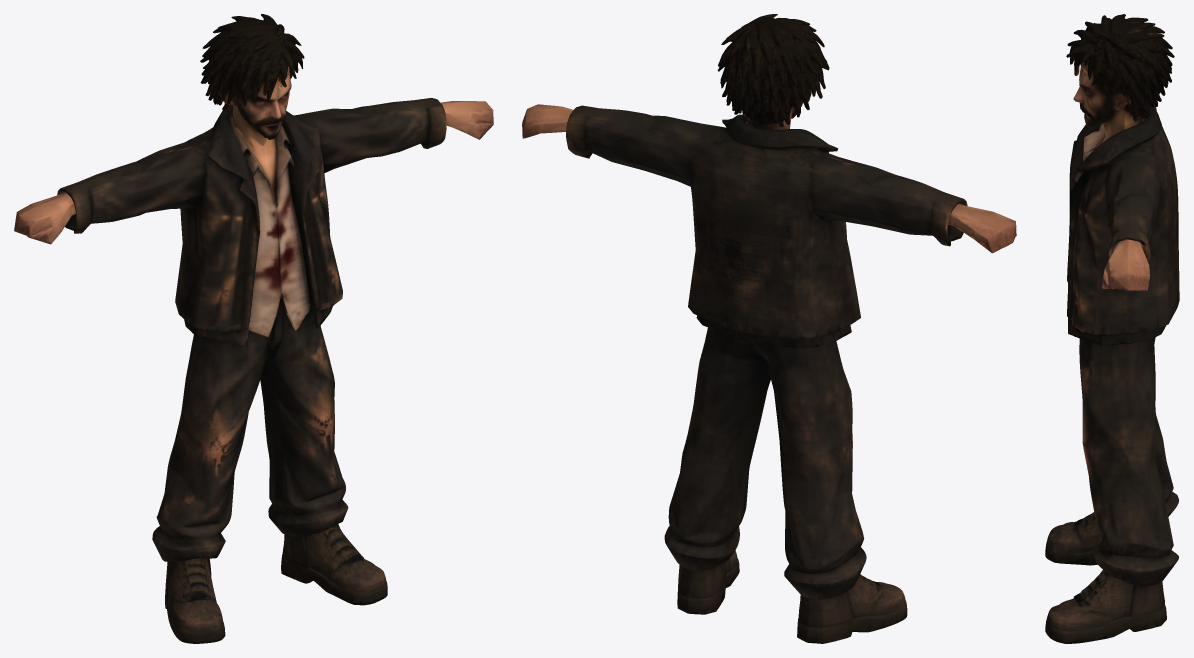
The model's file is Felps.glb.
3 renders of one model, left to right at view 1: azimuth 30°, elevation 25°; view 2: azimuth 150°, elevation 25°; view 3: azimuth 270°, elevation 25°, orthographic. The views are drawn at different scales.
Visible parts, largest first — view 1: node_0; view 2: node_0; view 3: node_0.
Part boxes in pixels (x1=…): node_0: x1=14, y1=14, x2=493, y2=643; node_0: x1=522, y1=14, x2=1016, y2=643; node_0: x1=1045, y1=14, x2=1179, y2=643.
Size of the model in its own units: 0.9651 by 1.11 by 0.2364.
Materials: 1 (1 with a texture image).
